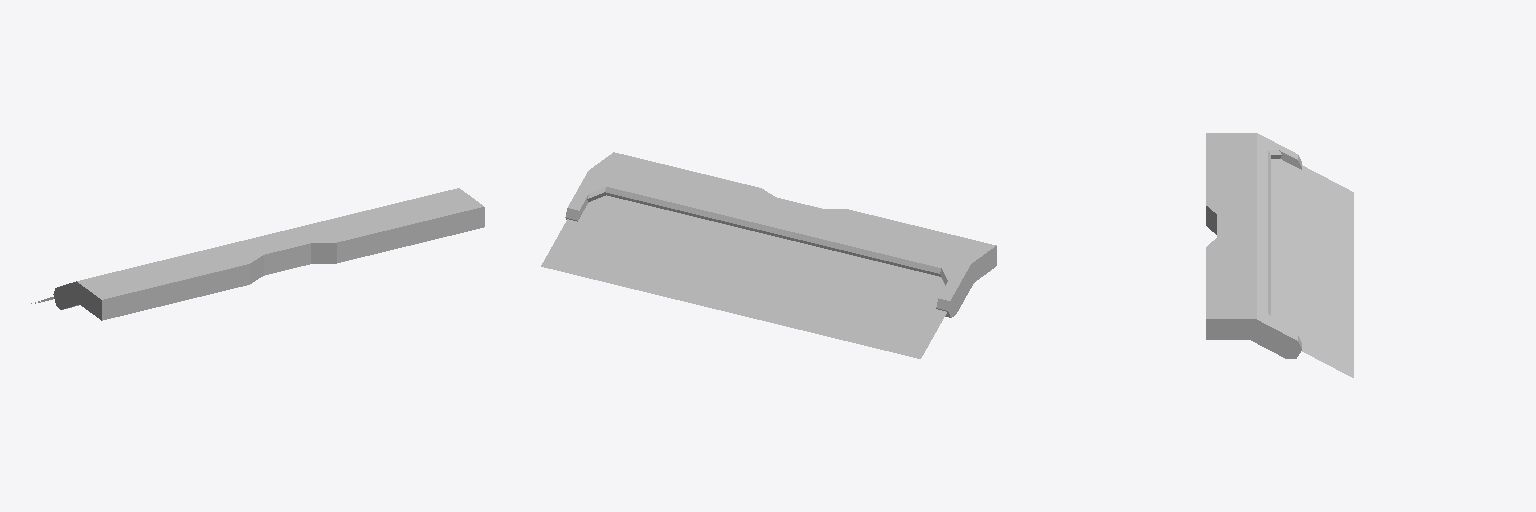
Rendered from ceilingsign.obj.
3 views of the same model, side by side, from view 1: azimuth 30°, elevation 25°; view 2: azimuth 150°, elevation 25°; view 3: azimuth 270°, elevation 25° (orthographic).
Parts seen in each view (by area): view 1: Geometry.0; view 2: Geometry.1, Geometry.0; view 3: Geometry.1, Geometry.0.
Boxes of the visible parts, x1,y1,x2,y2 form: Geometry.0: [53, 188, 484, 320]; Geometry.1: [541, 195, 946, 358]; Geometry.0: [565, 152, 996, 317]; Geometry.1: [1271, 159, 1353, 376]; Geometry.0: [1206, 133, 1301, 358].
Bounding box in the file's own units: 96 × 14.38 × 32.32.